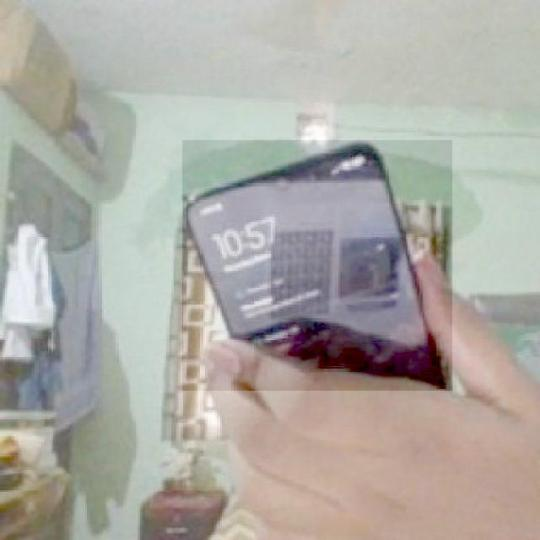phone: (182, 140, 452, 398)
